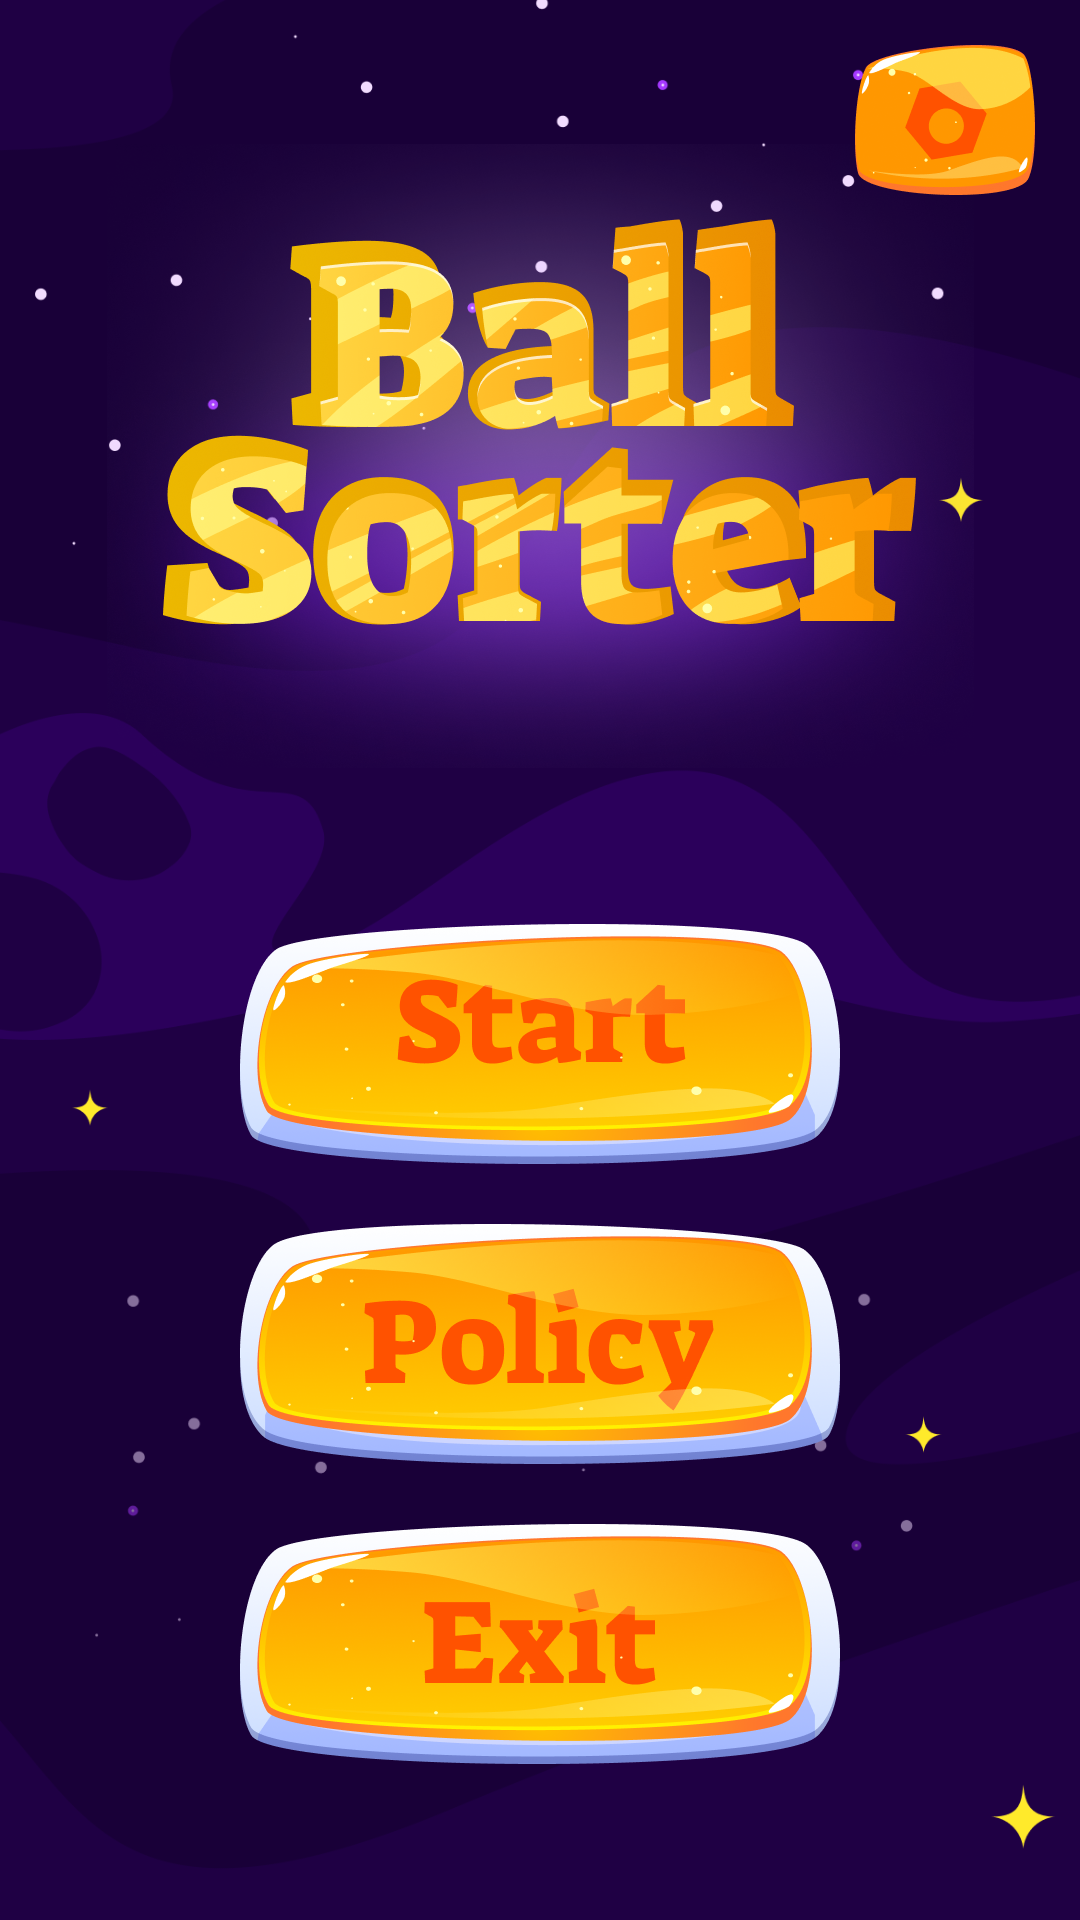

Icons on this 1080 x 1920 Android screen, each with the point to tap as point (x, y):
settings sel: point (945, 120)
